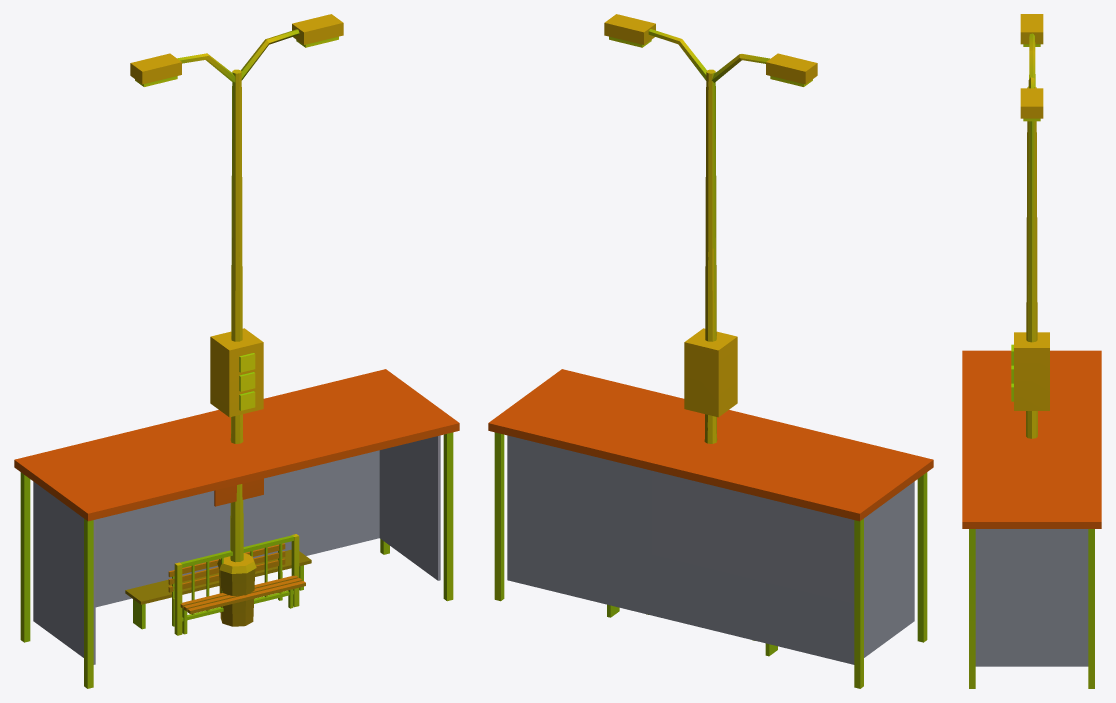
The model's file is furniture.glb.
3 views of the same model, side by side, from view 1: azimuth 30°, elevation 25°; view 2: azimuth 150°, elevation 25°; view 3: azimuth 270°, elevation 25° (orthographic). The views are drawn at different scales.
Parts seen in each view (by area): view 1: furniture__bus_shelter__LOD0, furniture__lamp_double__LOD0, furniture__traffic_light__LOD0, furniture__bench__LOD0, furniture__railing_2m__LOD0, furniture__lamp_single__LOD0, furniture__bin__LOD0, furniture__sign_post_blank__LOD0; view 2: furniture__bus_shelter__LOD0, furniture__lamp_double__LOD0, furniture__traffic_light__LOD0, furniture__lamp_single__LOD0; view 3: furniture__bus_shelter__LOD0, furniture__lamp_double__LOD0, furniture__traffic_light__LOD0, furniture__lamp_single__LOD0.
Part boxes in pixels (x1,y1,x2,y2): furniture__bus_shelter__LOD0: [14, 369, 459, 688]; furniture__lamp_double__LOD0: [130, 14, 343, 562]; furniture__traffic_light__LOD0: [210, 328, 263, 417]; furniture__bench__LOD0: [168, 543, 305, 634]; furniture__railing_2m__LOD0: [174, 534, 299, 635]; furniture__lamp_single__LOD0: [230, 14, 342, 561]; furniture__bin__LOD0: [217, 553, 256, 626]; furniture__sign_post_blank__LOD0: [214, 478, 263, 506]; furniture__bus_shelter__LOD0: [488, 369, 933, 688]; furniture__lamp_double__LOD0: [604, 14, 817, 443]; furniture__traffic_light__LOD0: [684, 328, 737, 417]; furniture__lamp_single__LOD0: [604, 14, 717, 443]; furniture__bus_shelter__LOD0: [962, 350, 1101, 688]; furniture__lamp_double__LOD0: [1020, 14, 1043, 261]; furniture__traffic_light__LOD0: [1011, 332, 1049, 410]; furniture__lamp_single__LOD0: [1023, 83, 1040, 438].
Size of what is drawn, in the model's own units: 6.1 by 9.05 by 2.1.
